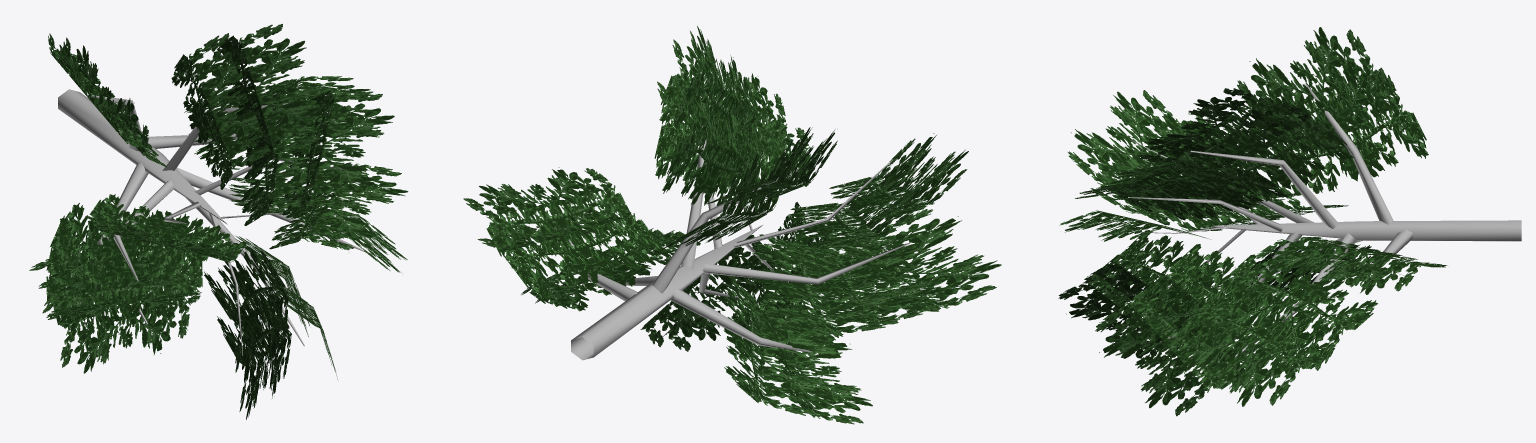
Rendered from cherry_bb.obj.
The picture shows the model from 3 angles, left to right: view 1: azimuth 30°, elevation 25°; view 2: azimuth 150°, elevation 25°; view 3: azimuth 270°, elevation 25°; orthographic projection. The views are drawn at different scales.
Visible parts, largest first — view 1: plant_pmat3, plant_pmat2, plant_pmat1; view 2: plant_pmat3, plant_pmat2, plant_pmat1; view 3: plant_pmat3, plant_pmat2, plant_pmat1.
Boxes of the visible parts, x1,y1,x2,y2 form: plant_pmat3: (29,24,408,419); plant_pmat2: (91,95,369,355); plant_pmat1: (58,89,227,224); plant_pmat3: (463,26,1001,424); plant_pmat2: (558,84,910,352); plant_pmat1: (571,225,762,360); plant_pmat3: (1058,27,1447,416); plant_pmat2: (1128,83,1412,363); plant_pmat1: (1210,220,1521,241).
Size of the model in its own units: 5.11 by 3.99 by 5.1.
